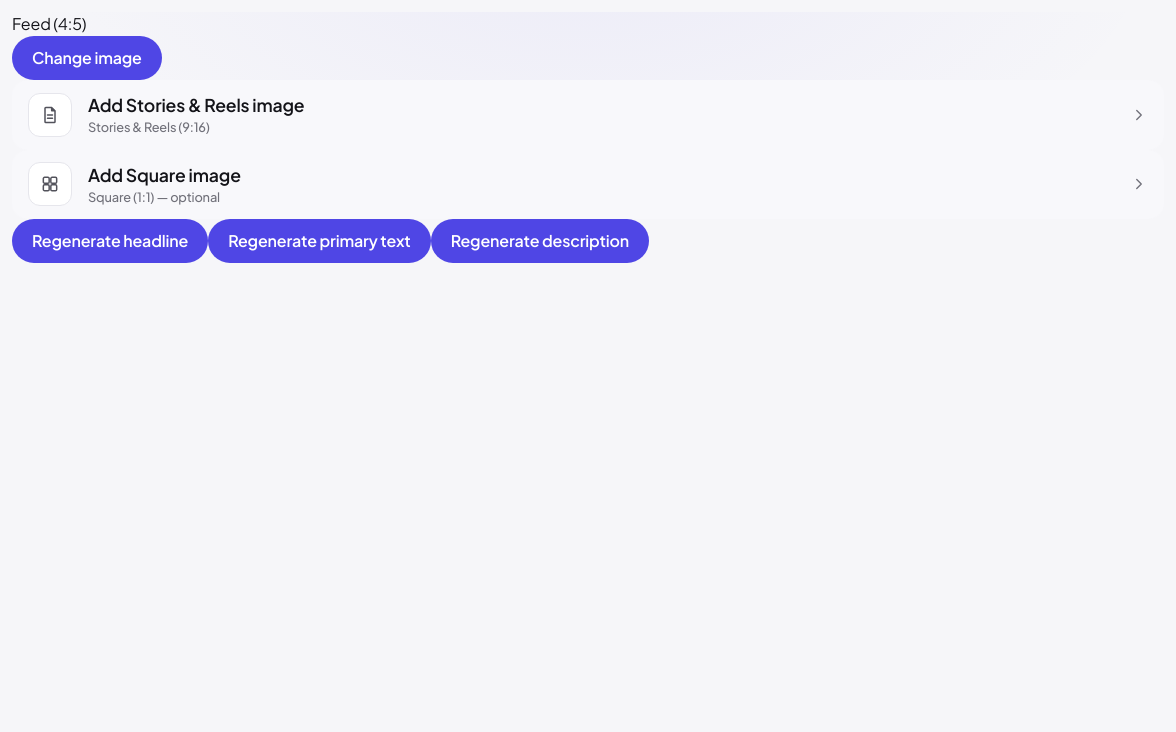
Test: CreativeEditor › shows why an image change failed
Click the button "Change image" at [87, 58], box [12,36,162,80]
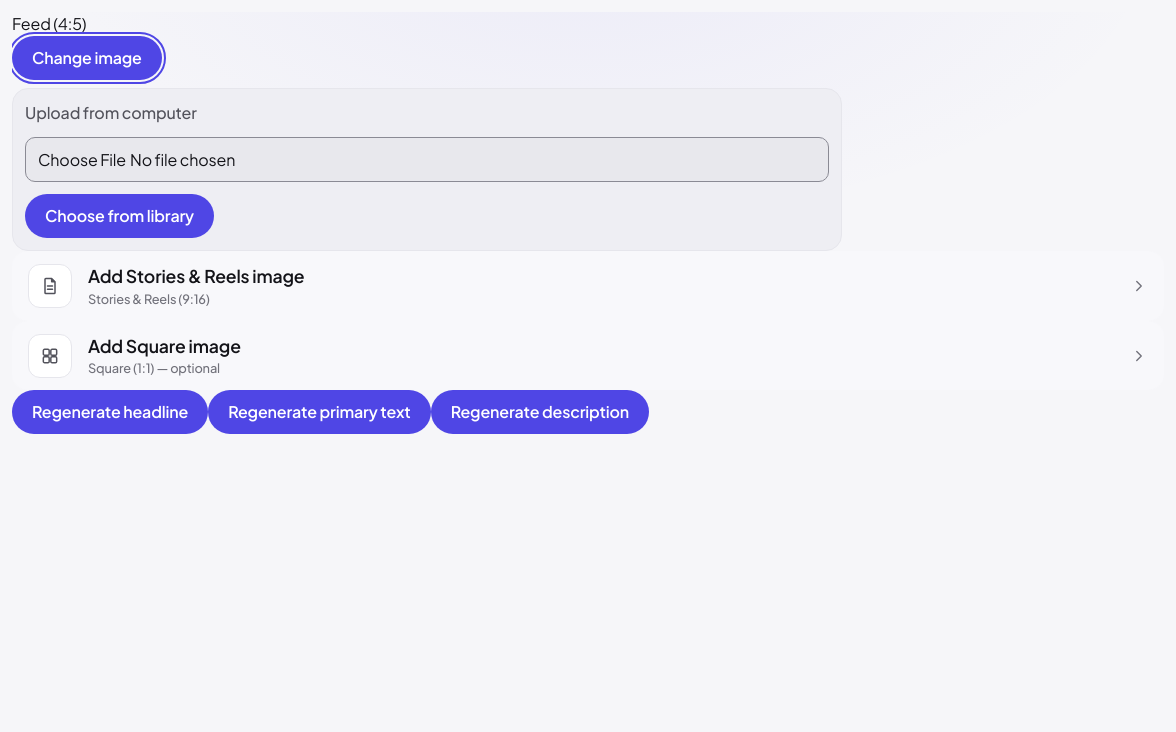
Click the button "Choose from library" at [120, 216], box [25,194,214,238]
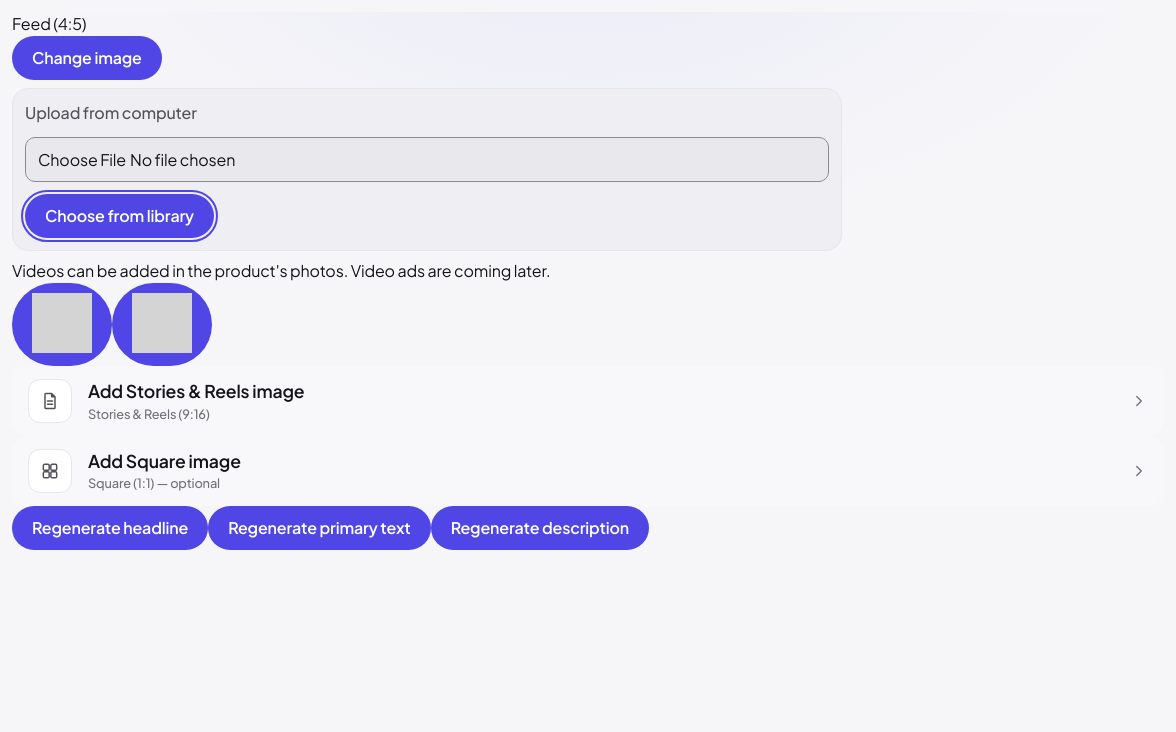
Click the 1st button with alt text "Product option" at [62, 325], box [12,283,112,366]
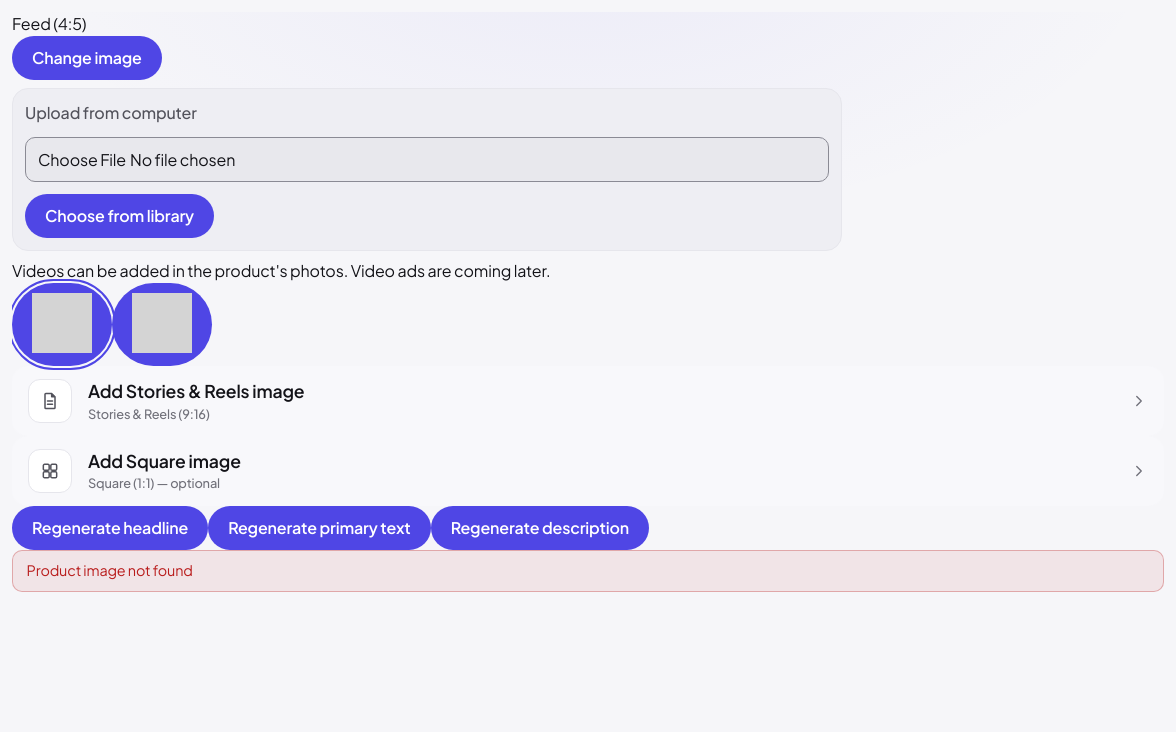
expect the message reads "Product image not found": met, box [27,561,193,579]
